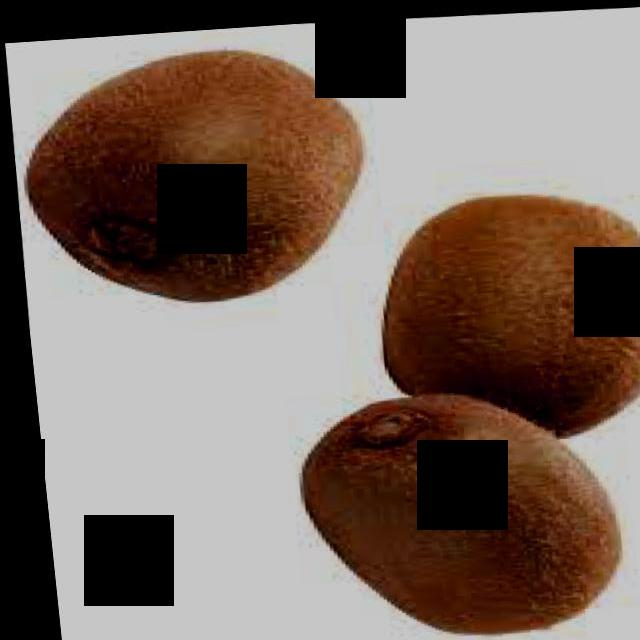kiwi: (14, 32, 382, 305), (289, 377, 621, 640), (367, 181, 640, 447)
